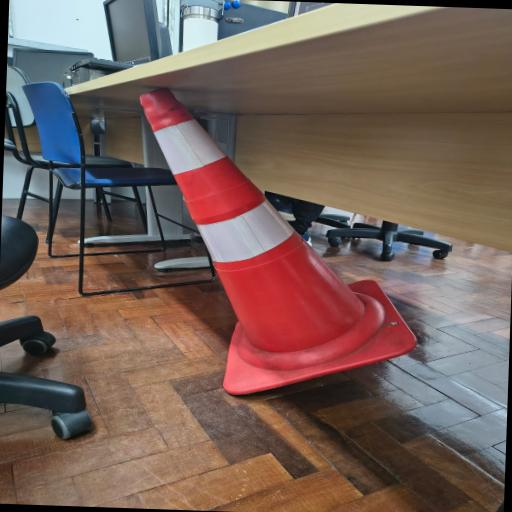cone: (128, 84, 434, 396)
